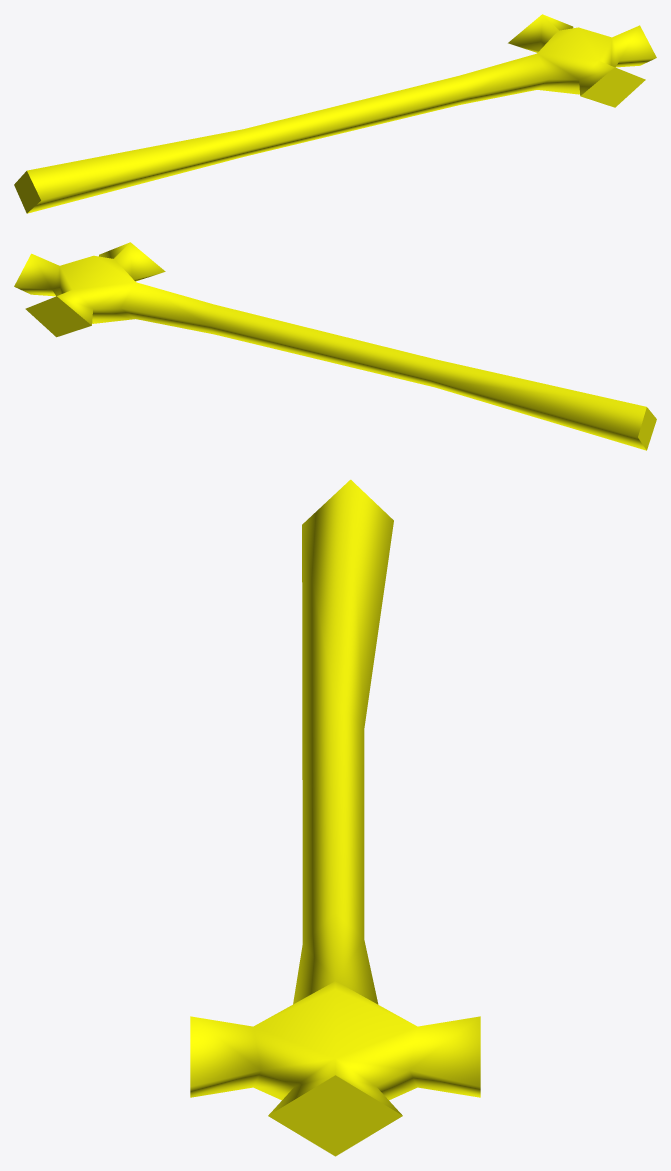
File: WK_weapon_staff.glb
The picture shows the model from 3 angles, top to bottom: view 1: azimuth 30°, elevation 25°; view 2: azimuth 150°, elevation 25°; view 3: azimuth 270°, elevation 25°; orthographic projection. The views are drawn at different scales.
Parts seen in each view (by area): view 1: WK_weapon_staff_B; view 2: WK_weapon_staff_B; view 3: WK_weapon_staff_B.
Part boxes in pixels (box(x1,y1,x2,y2)): WK_weapon_staff_B: box(14, 14, 656, 213); WK_weapon_staff_B: box(14, 242, 656, 450); WK_weapon_staff_B: box(190, 479, 480, 1156).
Bounding box in the file's own units: 8.12 × 0.8532 × 1.67.
Materials: 1 (1 with a texture image).
